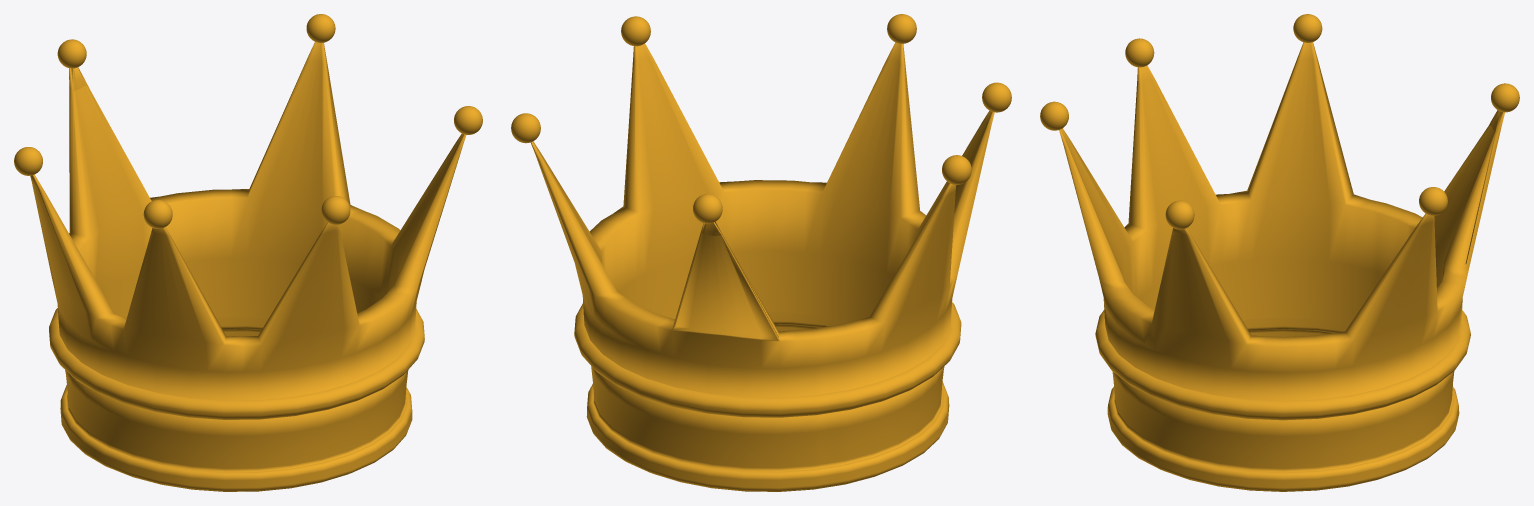
Rendered from crown.glb.
3 renders of one model, left to right at view 1: azimuth 30°, elevation 25°; view 2: azimuth 150°, elevation 25°; view 3: azimuth 270°, elevation 25°, orthographic. The views are drawn at different scales.
Parts seen in each view (by area): view 1: Cylinder; view 2: Cylinder; view 3: Cylinder.
Part boxes in pixels (<box>): Cylinder: <box>14,14,482,491</box>; Cylinder: <box>511,14,1011,491</box>; Cylinder: <box>1040,14,1519,491</box>.
Bounding box in the file's own units: 2.35 × 1.74 × 2.44.
